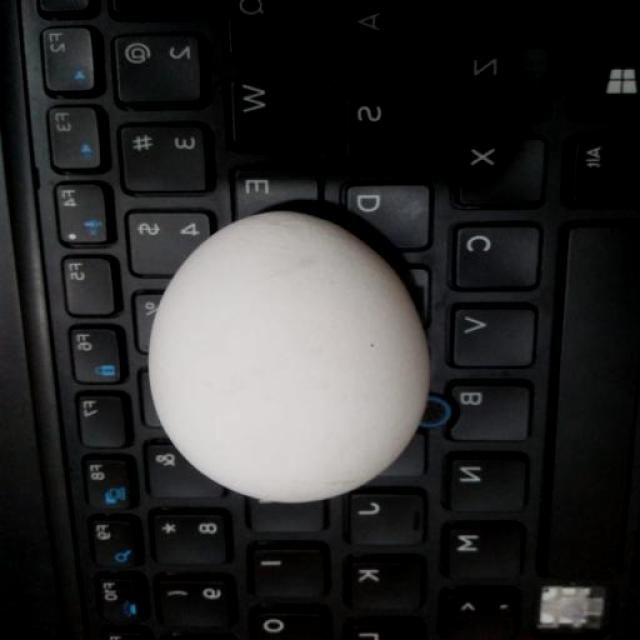telur: (147, 210, 430, 505)
